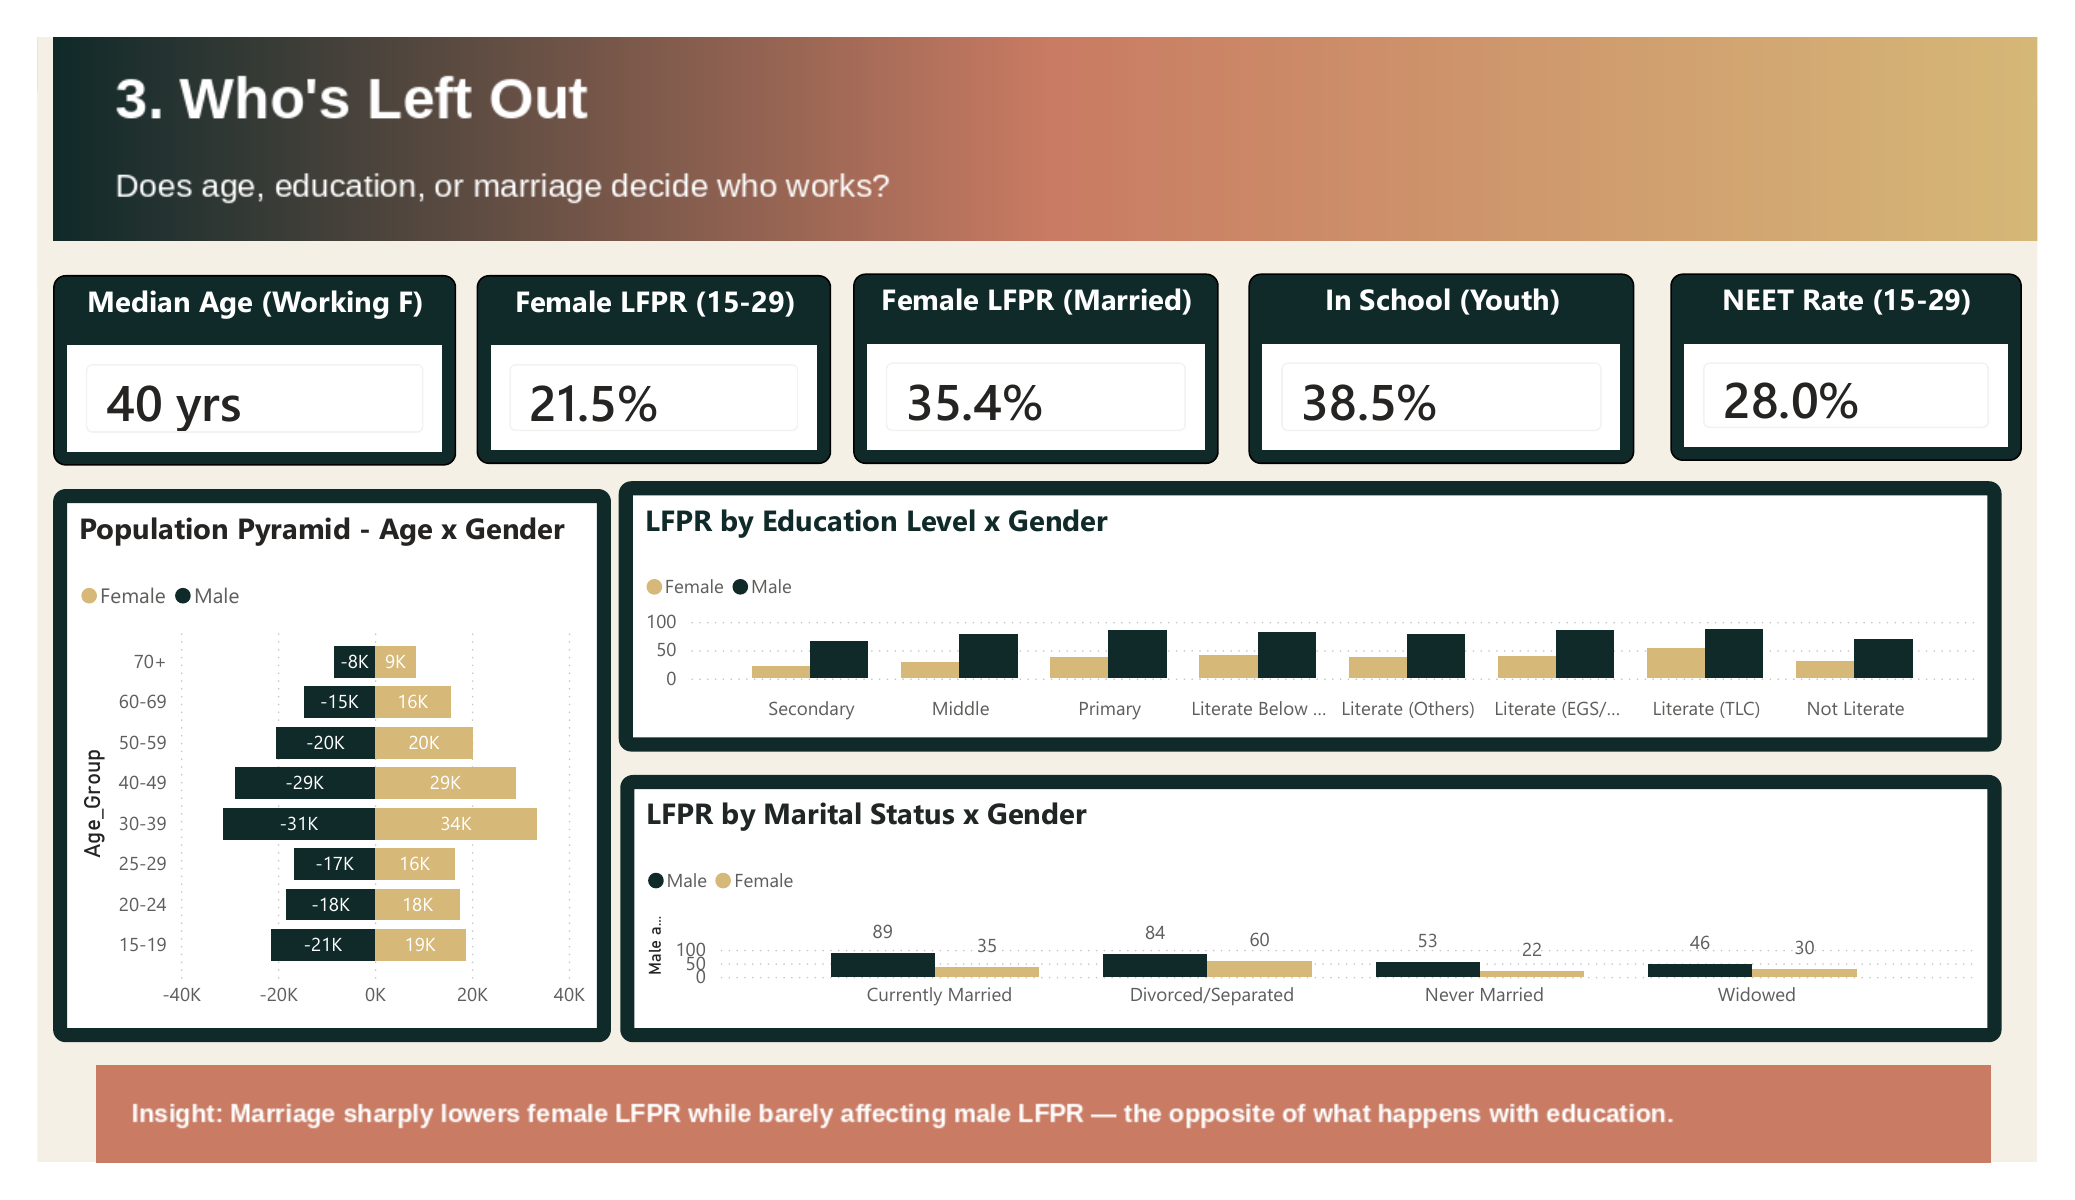

The page's visual inventory and layout, read from the dashboard file:
{"tool":"powerbi","page":{"name":"3. Who's Left Out ","canvas":[1280,720],"ordinal":3},"visuals":[{"type":"image","box":[10,0,1270,130],"z":0},{"type":"cardVisual","title":"Female LFPR (15-29)","fields":{"Data":["_Measures.Female_LFPR_Youth_Display"]},"box":[281.1,152,226.8,120.6],"z":1000},{"type":"cardVisual","title":"Female LFPR (Married)","fields":{"Data":["_Measures.Female_LFPR_Married_Display"]},"box":[522.4,150.8,234,121.9],"z":2000},{"type":"cardVisual","title":"In School (Youth)","fields":{"Data":["_Measures.Attending_Percent_Youth_Display"]},"box":[774.5,150.8,247.3,121.9],"z":3000},{"type":"cardVisual","title":"NEET Rate (15-29)","fields":{"Data":["_Measures.NEET_Rate_Display"]},"box":[1044.8,150.8,225.6,120.6],"z":4000},{"type":"cardVisual","title":"Median Age (Working F)","fields":{"Data":["_Measures.Median_Age_Working_Female_Display"]},"box":[9.7,152,258.2,121.9],"z":5000},{"type":"barChart","title":"Population Pyramid - Age x Gender","fields":{"Category":["PLFS_Main.Age_Group"],"Y":["_Measures.Female_Population_Count","_Measures.Male_Population_Negative"]},"box":[9.9,288.9,356.8,354.3],"z":6000},{"type":"clusteredColumnChart","title":"LFPR by Education Level x Gender","fields":{"Category":["PLFS_Main.General_Education_Level"],"Y":["_Measures.Female_LFPR_Raw","_Measures.Male_LFPR_Raw"]},"box":[371.6,284,885.2,172.8],"z":7000},{"type":"clusteredColumnChart","title":"LFPR by Marital Status x Gender","fields":{"Category":["PLFS_Main.Marital_Status"],"Y":["_Measures.Male_LFPR_Raw","_Measures.Female_LFPR_Raw"]},"box":[372.8,471.6,884,171.6],"z":8000},{"type":"image","box":[19.8,658,1248.1,61.7],"z":9000}]}

Visuals, with their boxes in screenshot pixels (x1, y1, x2, y2):
image: [53, 32, 2012, 233]
"Female LFPR (15-29)" cardVisual: [471, 267, 821, 453]
"Female LFPR (Married)" cardVisual: [843, 265, 1204, 453]
"In School (Youth)" cardVisual: [1232, 265, 1613, 453]
"NEET Rate (15-29)" cardVisual: [1649, 265, 1997, 451]
"Median Age (Working F)" cardVisual: [53, 267, 451, 455]
"Population Pyramid - Age x Gender" barChart: [53, 478, 603, 1024]
"LFPR by Education Level x Gender" clusteredColumnChart: [611, 470, 1976, 737]
"LFPR by Marital Status x Gender" clusteredColumnChart: [613, 760, 1976, 1024]
image: [68, 1047, 1993, 1142]
